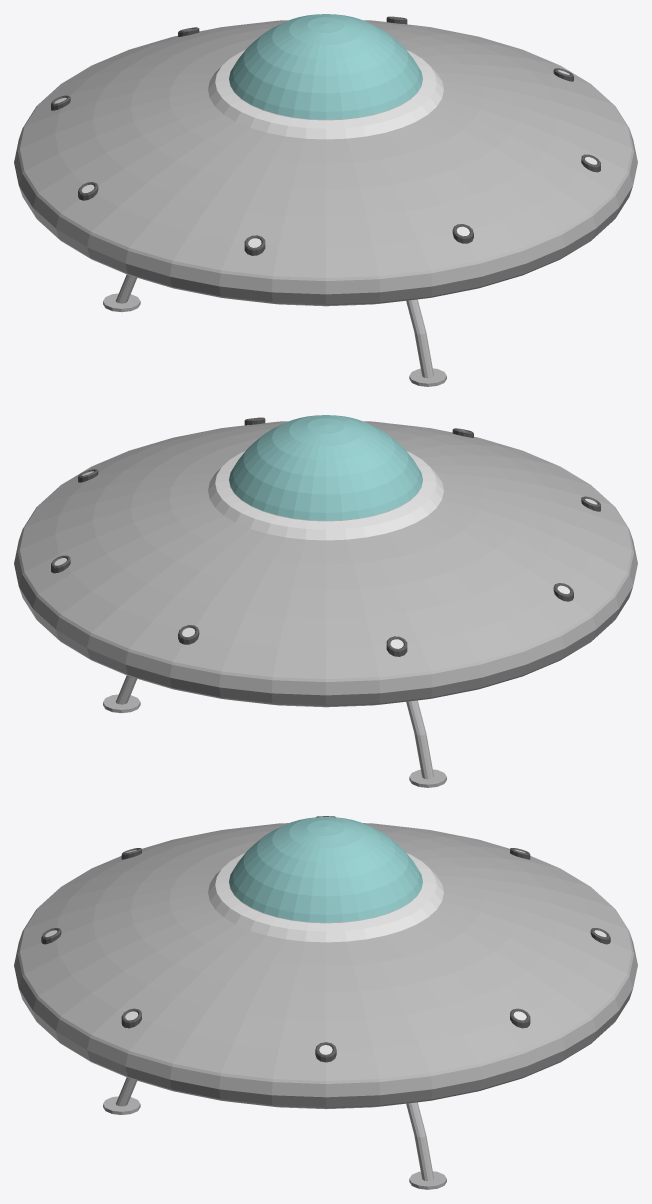
The model's file is ufo.glb.
The picture shows the model from 3 angles, top to bottom: view 1: azimuth 30°, elevation 25°; view 2: azimuth 150°, elevation 25°; view 3: azimuth 270°, elevation 25°; orthographic projection.
Visible parts, largest first — view 1: Flying_Saucer; view 2: Flying_Saucer; view 3: Flying_Saucer.
Part boxes in pixels (x1,y1,x2,y2): Flying_Saucer: (14,14,637,386); Flying_Saucer: (14,415,637,787); Flying_Saucer: (14,816,637,1189).
Size of the model in its own units: 89.43 by 44.37 by 89.43.
1 material, 1 textured.
